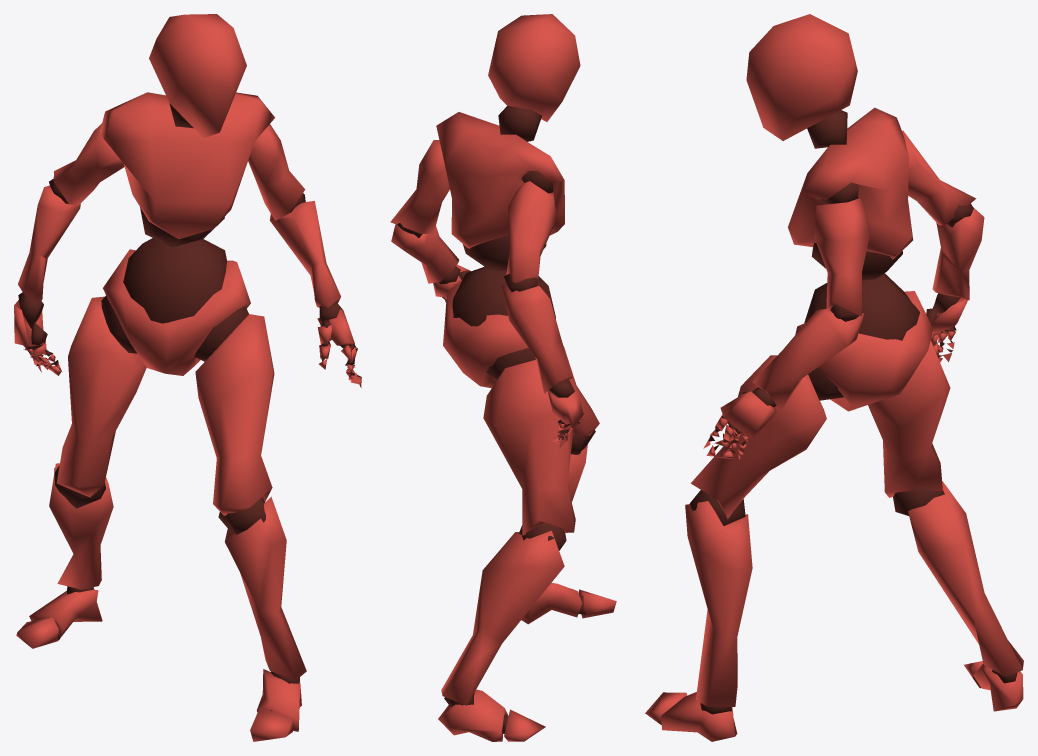
3 views of the same model, side by side, from view 1: azimuth 30°, elevation 25°; view 2: azimuth 150°, elevation 25°; view 3: azimuth 270°, elevation 25° (orthographic). The views are drawn at different scales.
Parts seen in each view (by area): view 1: Beta_Surface; view 2: Beta_Surface; view 3: Beta_Surface.
Part boxes in pixels (bbox=[...]): Beta_Surface: bbox=[14, 14, 361, 741]; Beta_Surface: bbox=[390, 14, 616, 741]; Beta_Surface: bbox=[645, 14, 1023, 741].
Bounding box in the file's own units: 5.49 × 14.62 × 7.2.
